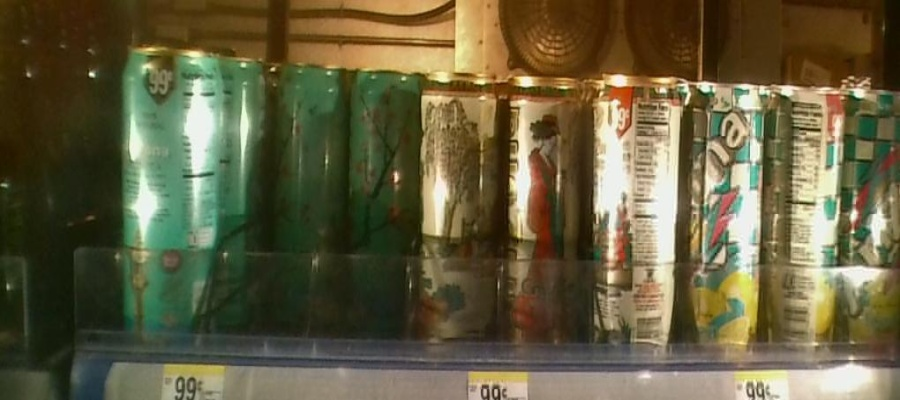bottle: (116, 24, 222, 367), (585, 55, 681, 367), (683, 57, 766, 372), (501, 55, 581, 362), (764, 62, 844, 362), (421, 63, 501, 351), (272, 46, 349, 343), (353, 55, 418, 349), (845, 68, 898, 361)
